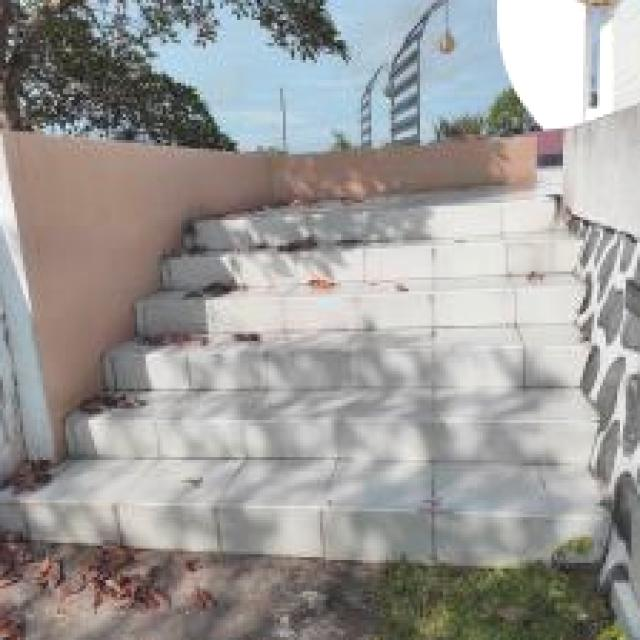upstair: (21, 187, 638, 590)
